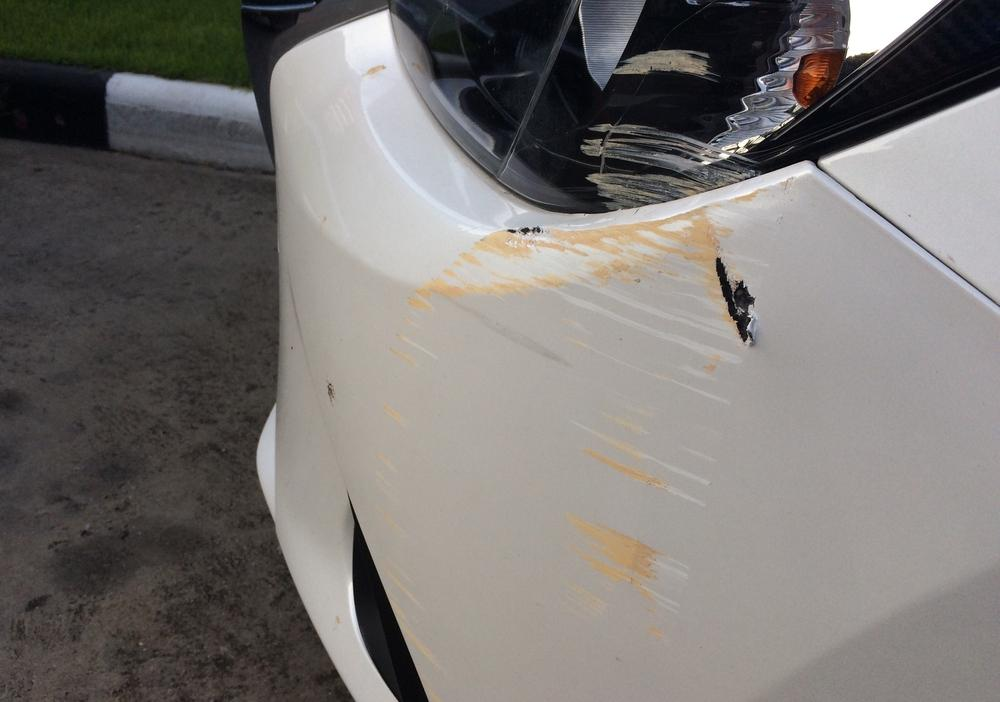scratch: (371, 175, 803, 669), (571, 47, 771, 209)
